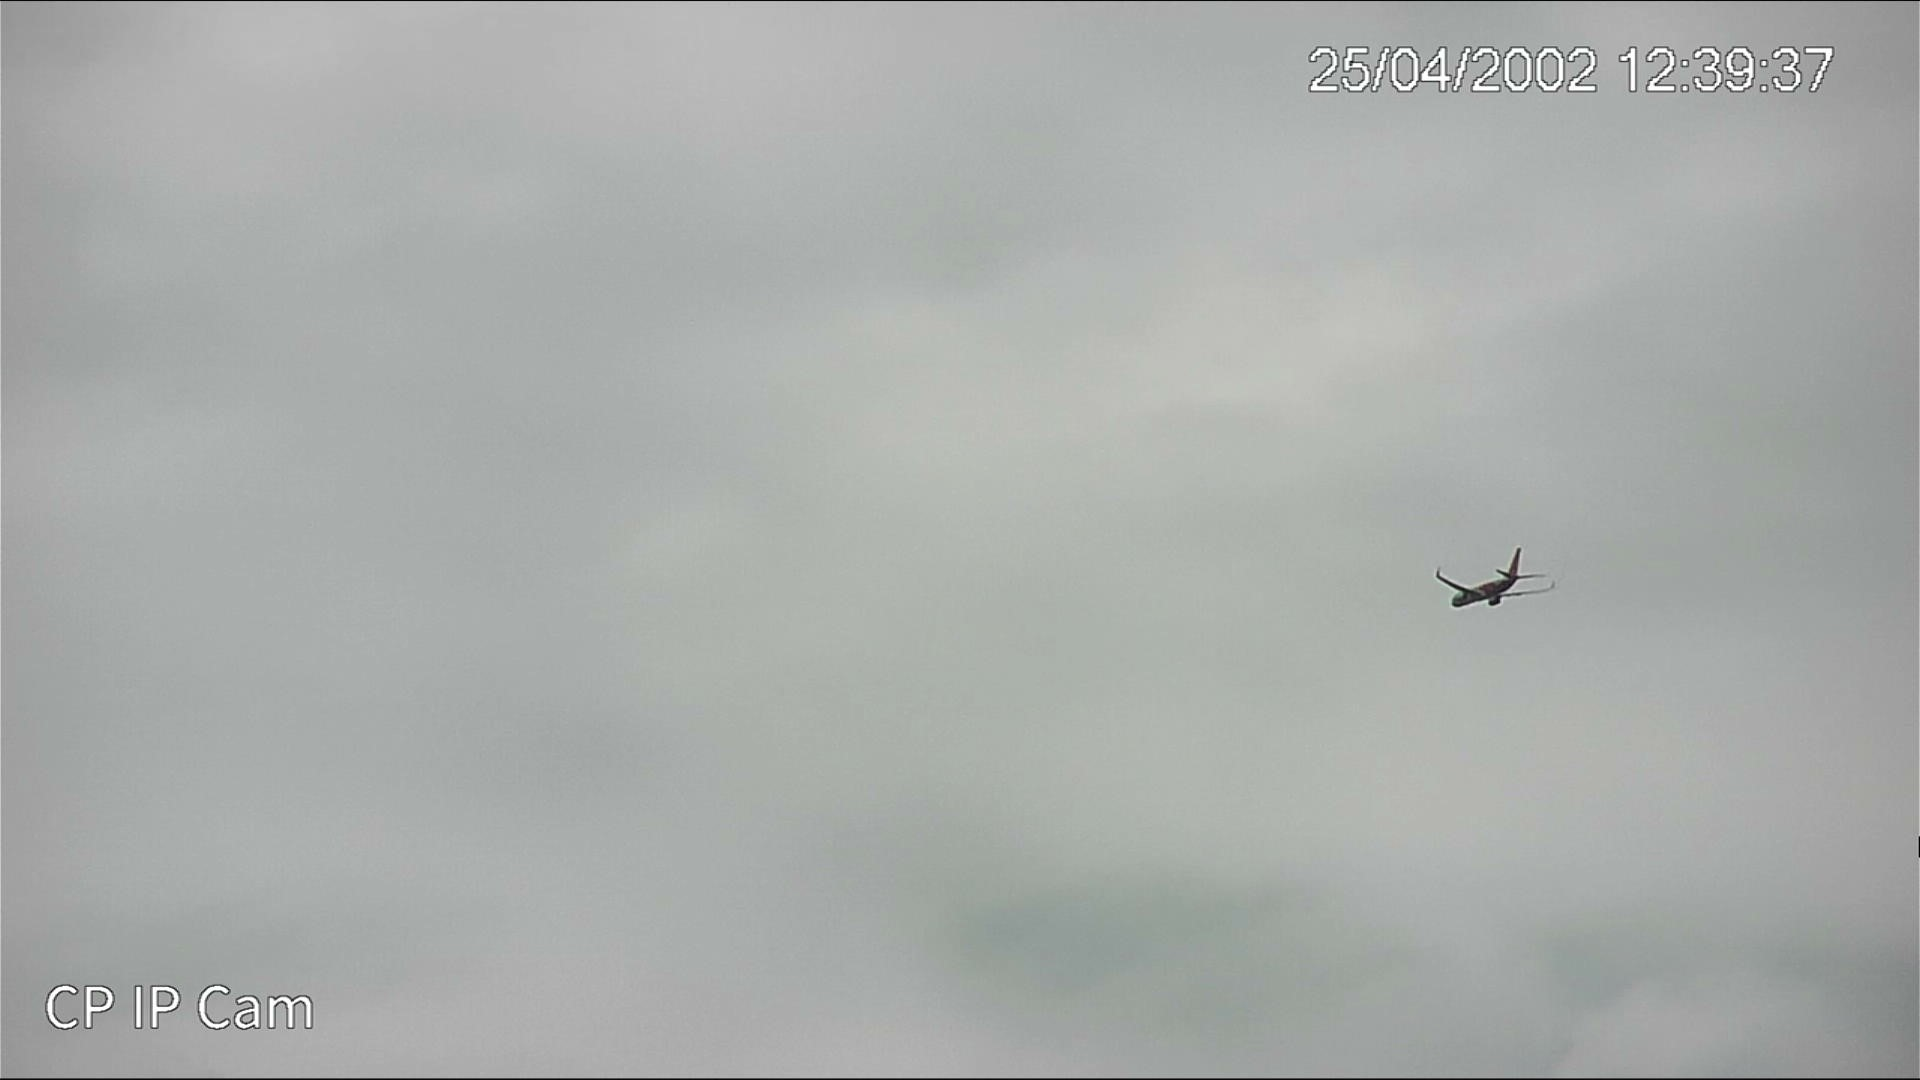SU_30: (1425, 543, 1565, 607)
